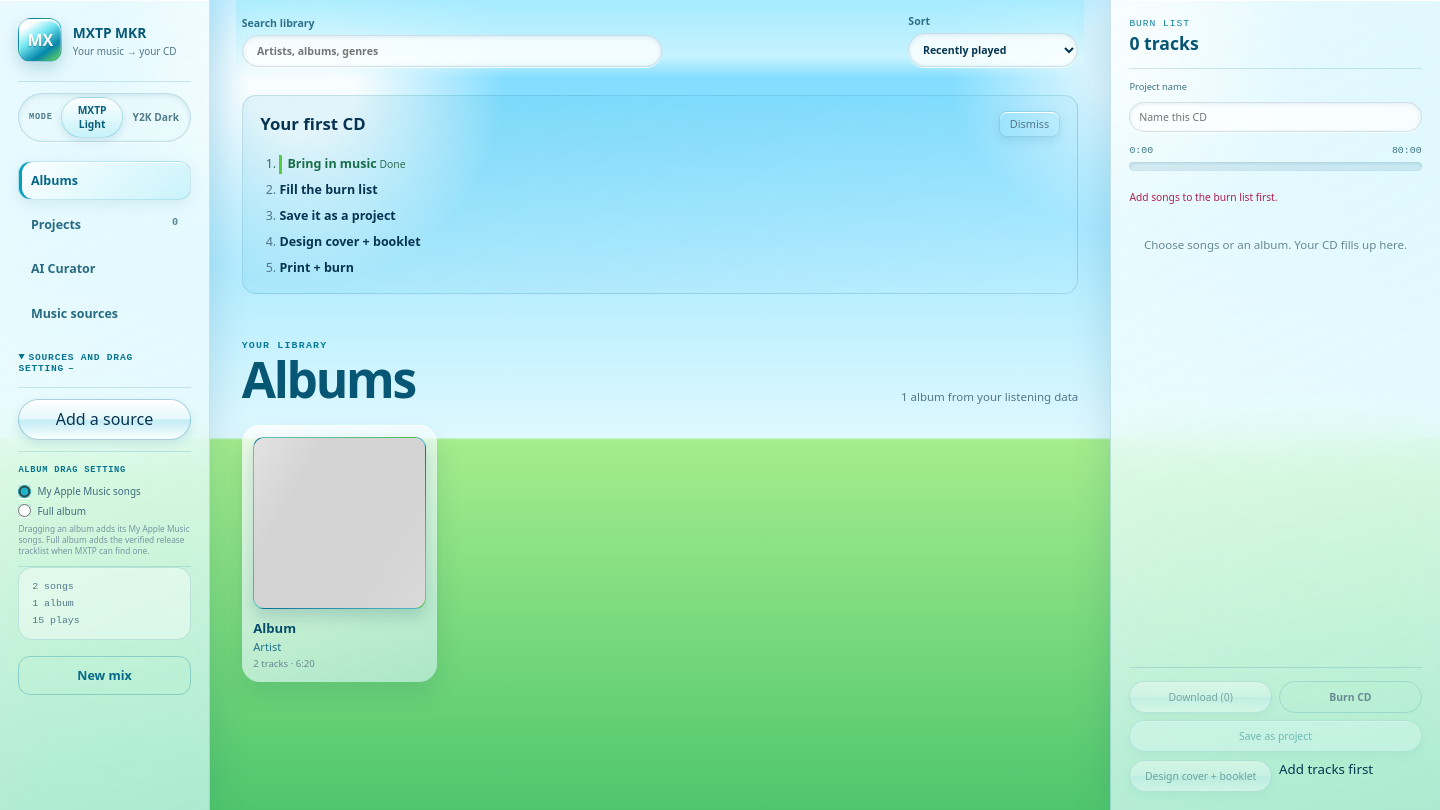
Test: Apple Music library UI › downloads the liked-song scope using only its matched playlist positions
The image size is (1440, 810).
Click the button with aria-label "Open Album" at [339, 553], box top-left (242, 425), bottom-right (437, 682)
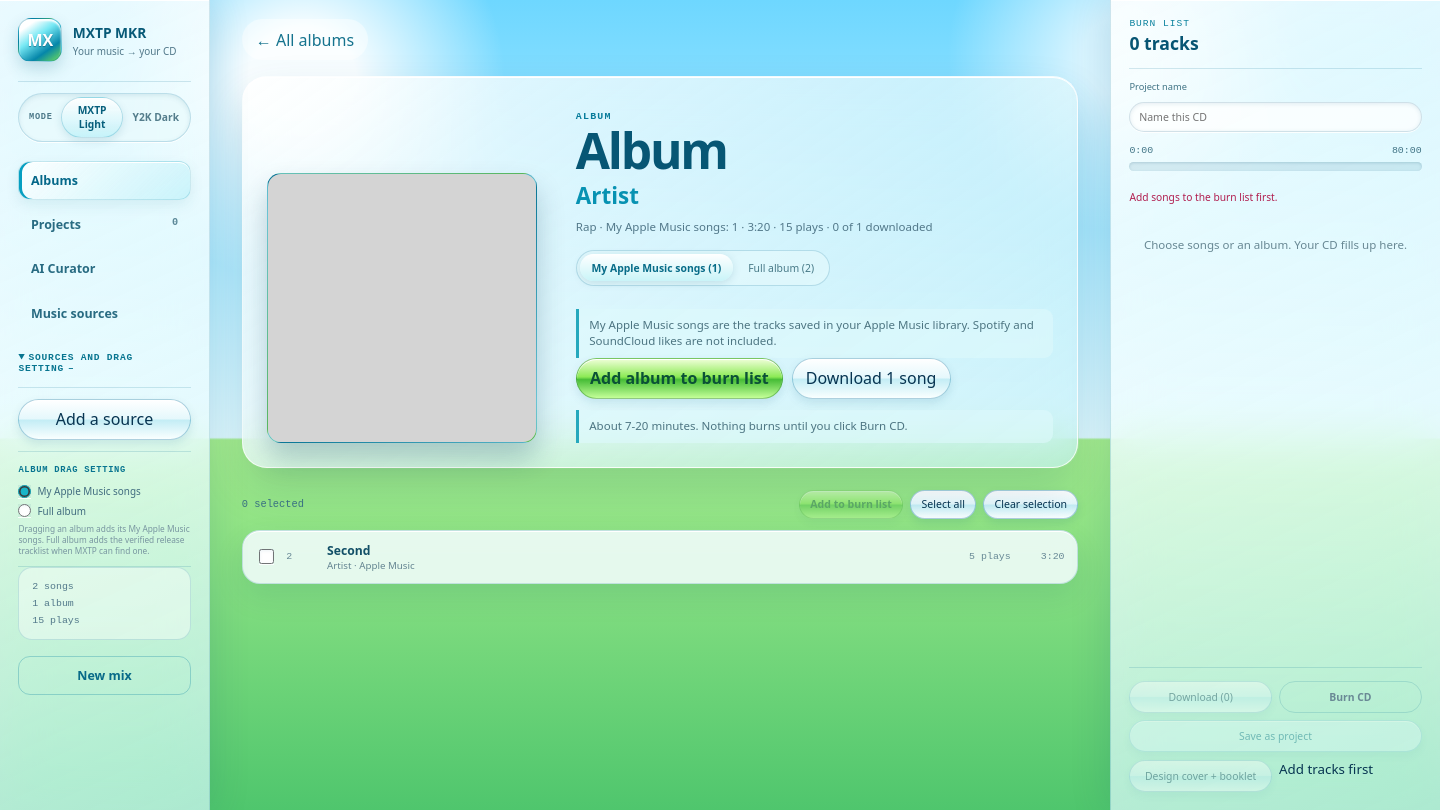
Check: the text "Audio ready forever" is not shown
Check: the element with test id "album-detail" is shown, box top-left (242, 0), bottom-right (1078, 598)
Check: the text "0 of 1 downloaded" is shown, box top-left (576, 219), bottom-right (933, 234)
Click the button "Download 1 song" at [871, 378], box top-left (792, 358), bottom-right (950, 399)
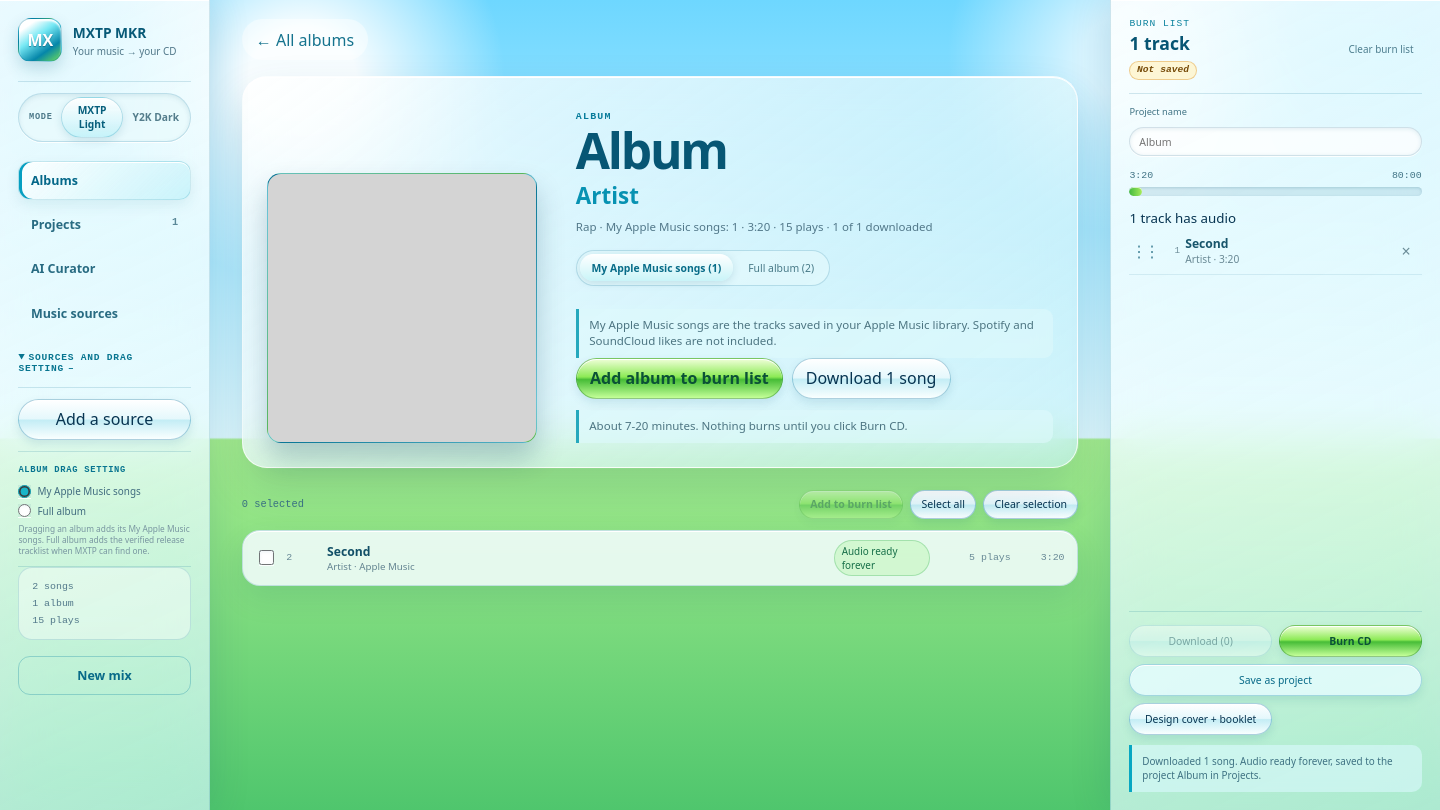
Check: the message with class "music-message" reads "Downloaded 1 song. Audio ready forever, saved to the project Album in Projects.", box top-left (1142, 754), bottom-right (1393, 782)
